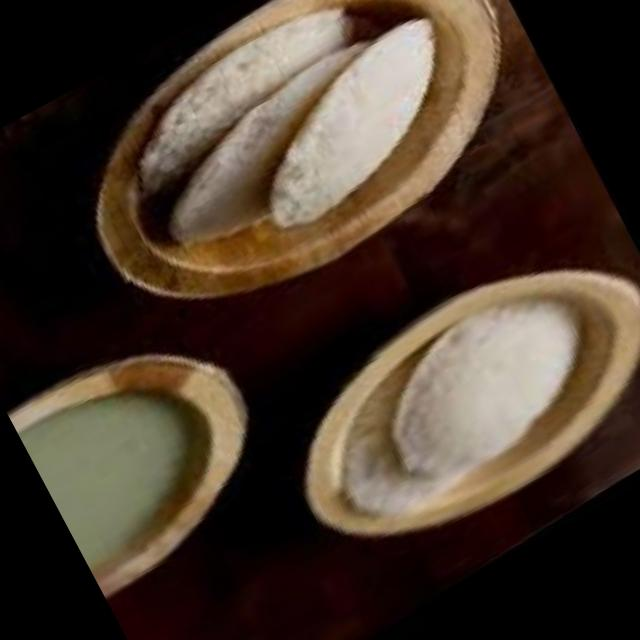idli: (132, 34, 424, 264), (357, 268, 622, 502), (222, 17, 489, 242), (107, 0, 385, 199), (304, 351, 494, 544)
